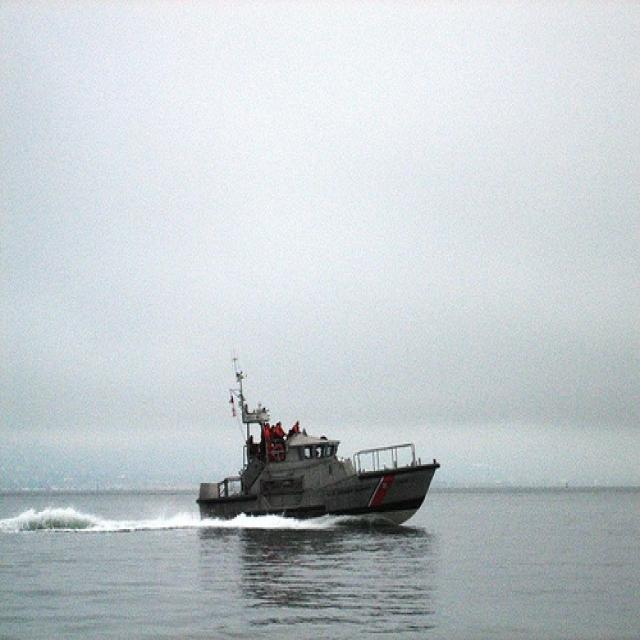boat: (197, 369, 442, 527)
